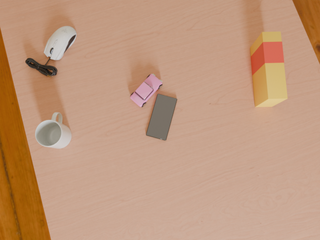box: (250, 32, 287, 107)
cup: (35, 112, 71, 149)
mouse: (44, 26, 76, 60)
phone: (146, 94, 177, 140)
toy_car: (130, 74, 162, 107)
